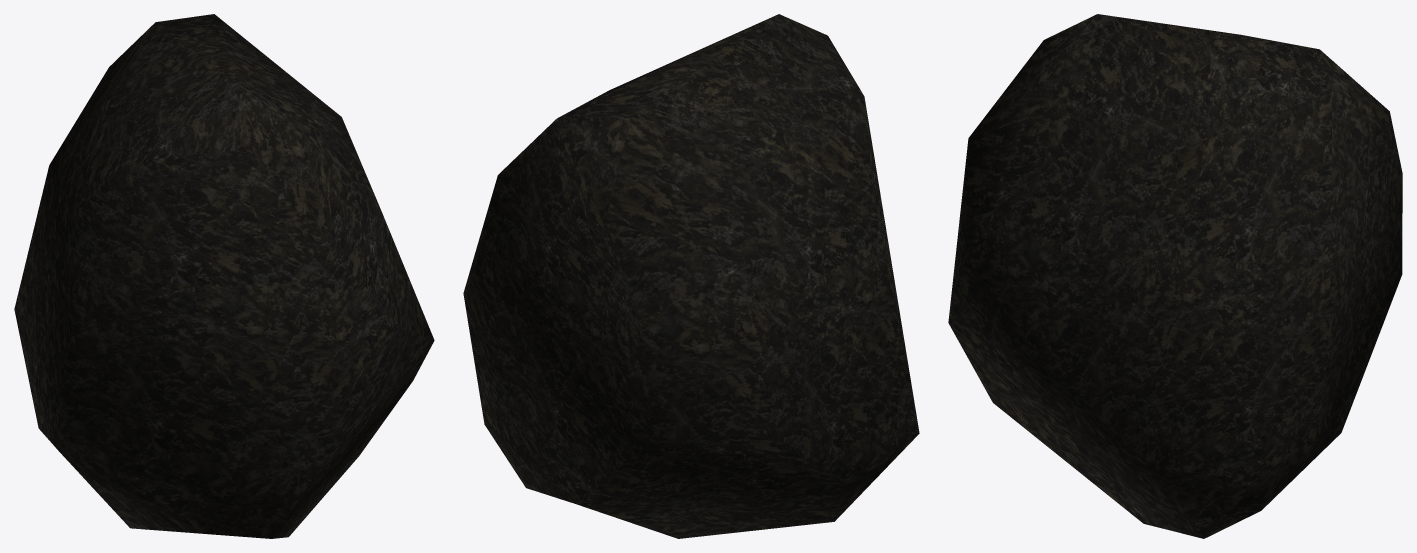
The model's file is rock_chute.gltf.
3 renders of one model, left to right at view 1: azimuth 30°, elevation 25°; view 2: azimuth 150°, elevation 25°; view 3: azimuth 270°, elevation 25°, orthographic. The views are drawn at different scales.
Parts seen in each view (by area): view 1: Cube; view 2: Cube; view 3: Cube.
Boxes of the visible parts, left/top/right/bottom form: Cube: left=14, top=14, right=434, bottom=538; Cube: left=463, top=14, right=919, bottom=538; Cube: left=948, top=14, right=1402, bottom=538.
Size of the model in its own units: 0.6803 by 0.8656 by 0.7491.
1 material, 1 textured.
